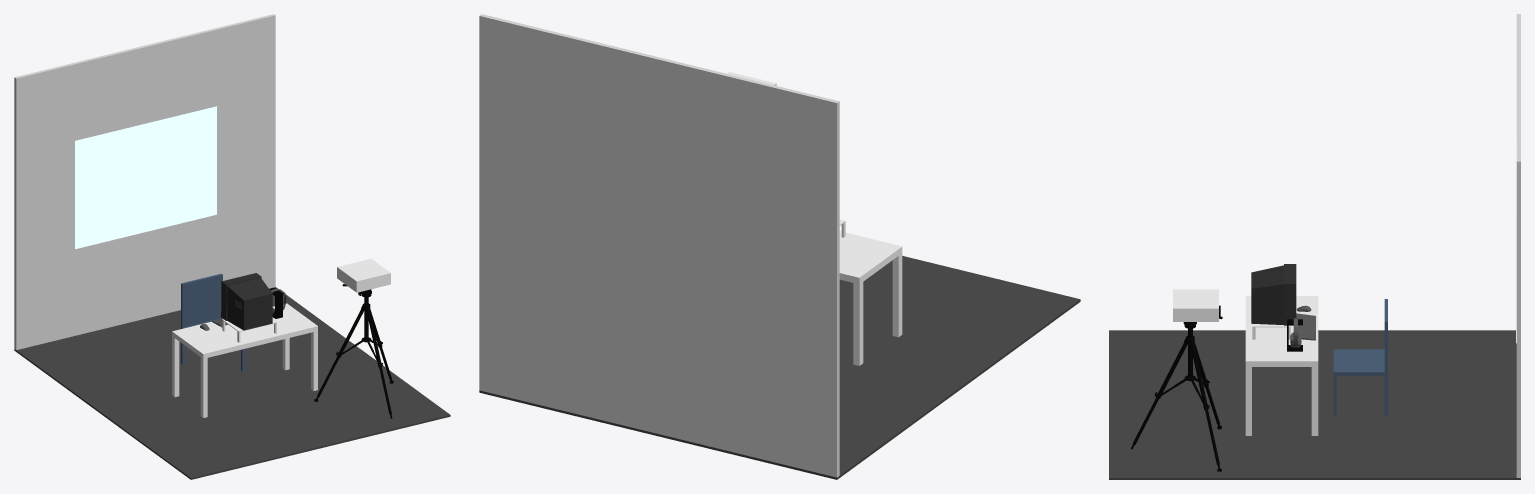
The model's file is installation.glb.
3 views of the same model, side by side, from view 1: azimuth 30°, elevation 25°; view 2: azimuth 150°, elevation 25°; view 3: azimuth 270°, elevation 25° (orthographic). The views are drawn at different scales.
Visible parts, largest first — view 1: Plane.002, Plane, Plane.003, Cube.001, Cube.004, Cube.005, pCylinder51, Cube.006; view 2: Plane.002, Plane, Cube.001; view 3: Plane, Cube.001, Cube.004, Plane.002, Cube.005, pCylinder51, Cube.006.
Part boxes in pixels (left/top/right/bottom): Plane.002: left=14, top=14, right=275, bottom=350; Plane: left=14, top=287, right=450, bottom=479; Plane.003: left=75, top=106, right=216, bottom=248; Cube.001: left=172, top=303, right=317, bottom=417; Cube.004: left=221, top=273, right=272, bottom=330; Cube.005: left=181, top=273, right=244, bottom=371; pCylinder51: left=314, top=284, right=393, bottom=418; Cube.006: left=337, top=258, right=390, bottom=292; Plane.002: left=479, top=14, right=839, bottom=477; Plane: left=479, top=256, right=1080, bottom=479; Cube.001: left=839, top=231, right=902, bottom=365; Plane: left=1109, top=330, right=1520, bottom=479; Cube.001: left=1245, top=296, right=1318, bottom=435; Cube.004: left=1251, top=264, right=1296, bottom=325; Plane.002: left=1516, top=14, right=1520, bottom=477; Cube.005: left=1333, top=299, right=1387, bottom=415; pCylinder51: left=1131, top=316, right=1222, bottom=471; Cube.006: left=1173, top=289, right=1220, bottom=321.
Size of the model in its own units: 5.94 by 5.98 by 7.01.
